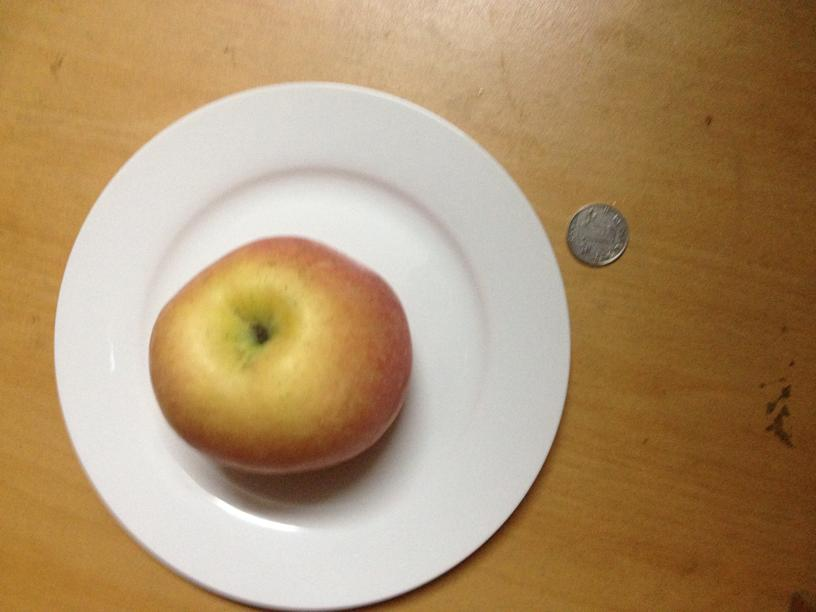apple: (147, 235, 413, 477)
coin: (567, 202, 631, 267)
